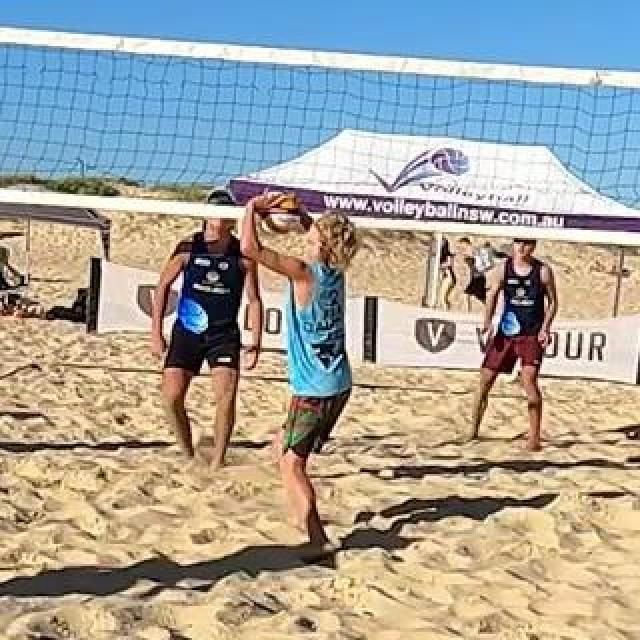volleyball: (258, 191, 300, 235)
